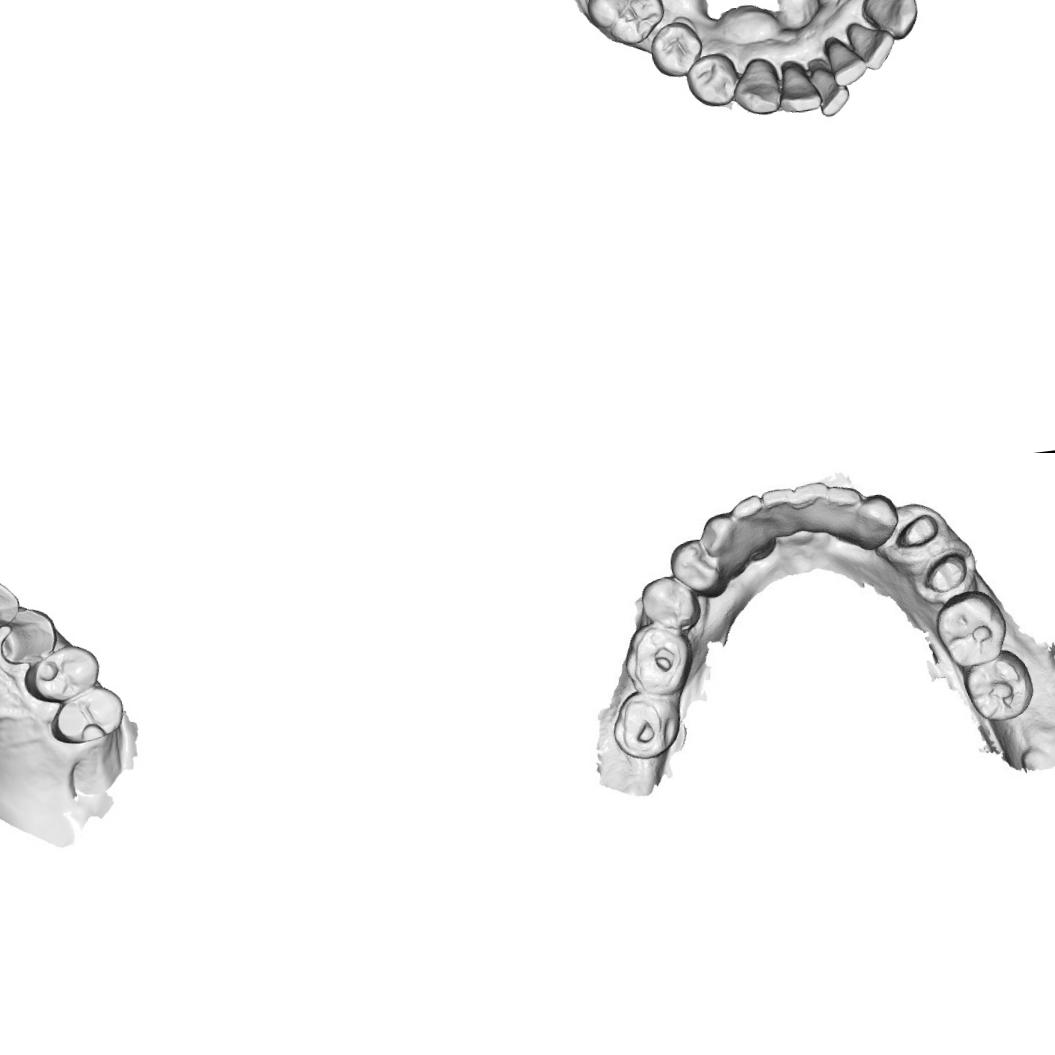canine: (728, 54, 786, 120), (0, 605, 60, 667), (700, 506, 752, 574), (850, 492, 902, 557), (859, 0, 922, 46)
crown: (923, 550, 972, 598), (895, 510, 944, 553)
incisor: (771, 55, 828, 117), (843, 16, 901, 74), (804, 59, 854, 120), (732, 496, 776, 560), (822, 34, 869, 91), (791, 481, 835, 540), (760, 487, 804, 545), (822, 484, 866, 540), (0, 571, 23, 639)
molar: (934, 589, 1012, 672), (620, 622, 693, 700), (610, 688, 684, 763), (963, 650, 1036, 723), (580, 0, 669, 51)
premolar: (19, 640, 104, 707), (46, 681, 127, 748), (682, 46, 744, 112), (644, 18, 708, 81), (638, 574, 701, 634), (670, 533, 726, 597)
